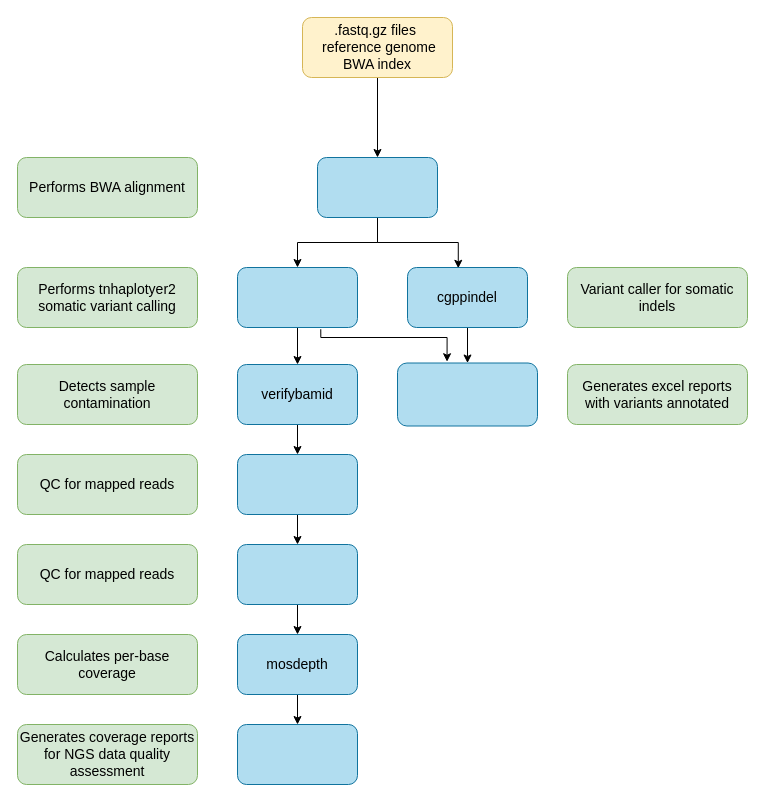
The diagram is 765 pixels wide and 802 high, and some of its shapes have lost their labels. Each missing label, with the centre of its shape:
"athena" belongs at point 297,754.
"eggd_vcf_handler _for_uranus" belongs at point 467,394.
"picard qc" belongs at point 297,484.
"samtools flagstat" belongs at point 297,574.
"sentieon BWA" belongs at point 377,187.
"sentieon somatic BAM ➔ VCF" belongs at point 297,297.
